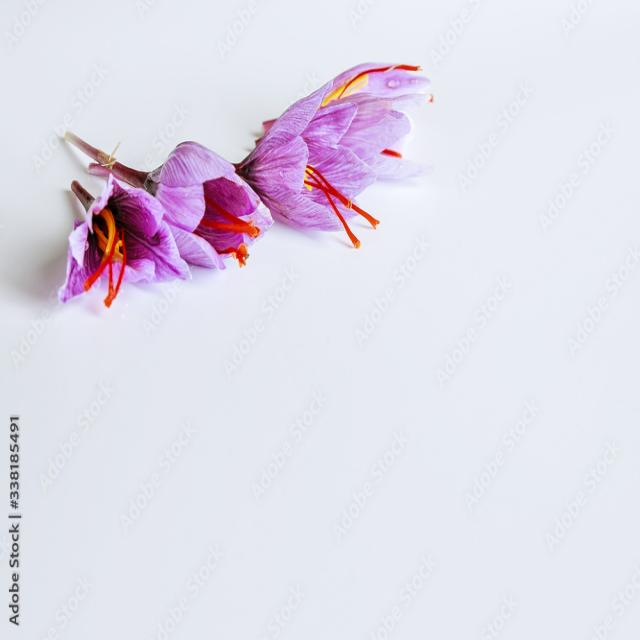saffron open: (66, 131, 272, 268), (240, 81, 378, 231), (58, 174, 190, 305), (322, 64, 432, 178)
